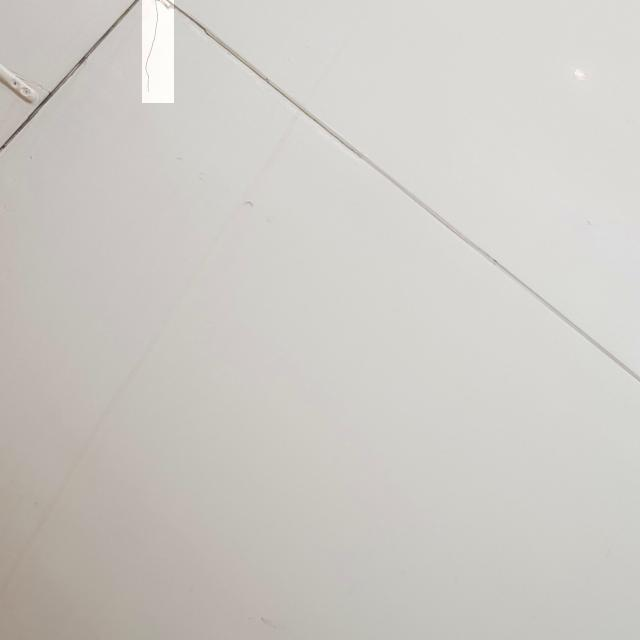crack: (144, 1, 176, 104)
